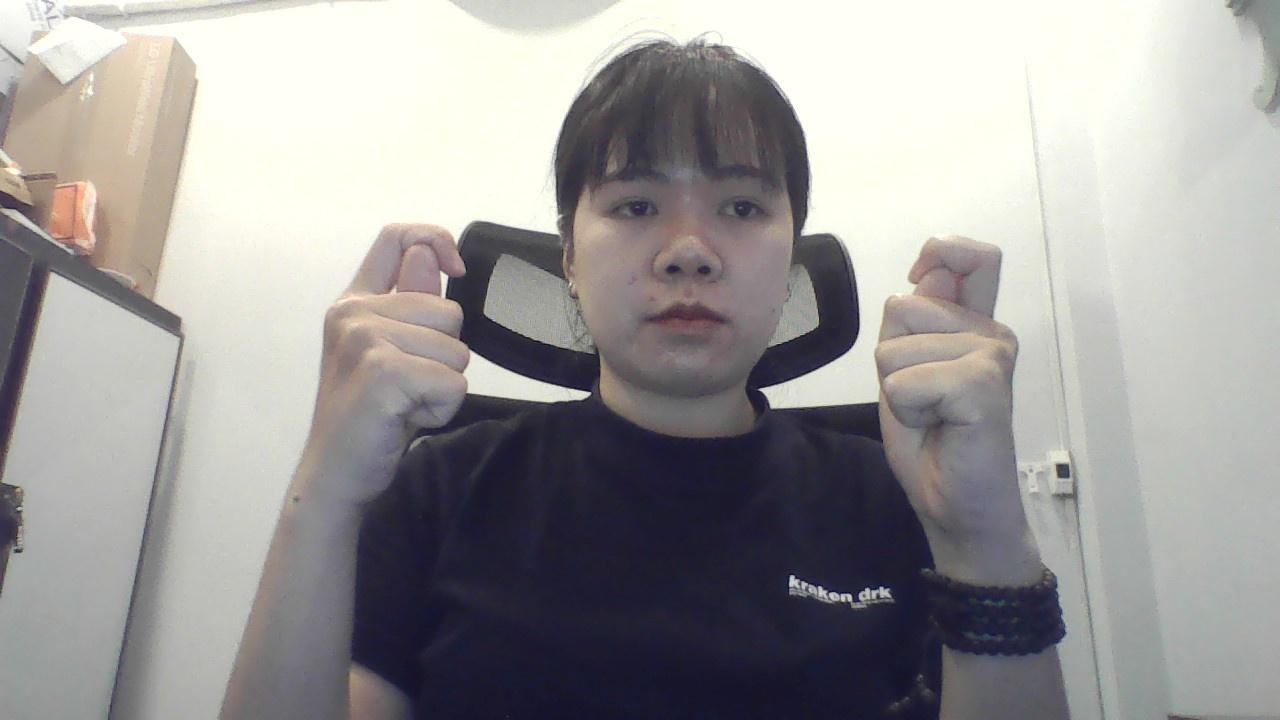X: (310, 210, 490, 507), (872, 219, 1033, 540)
